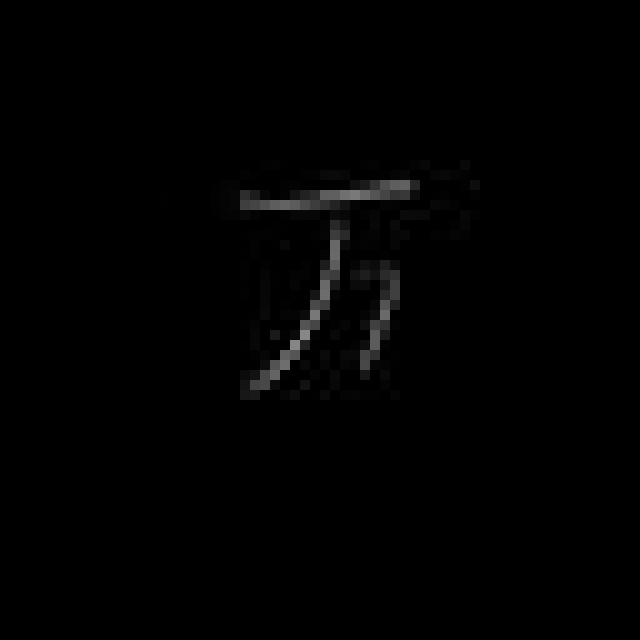10000 -a ten thousand-: (214, 162, 426, 416)
